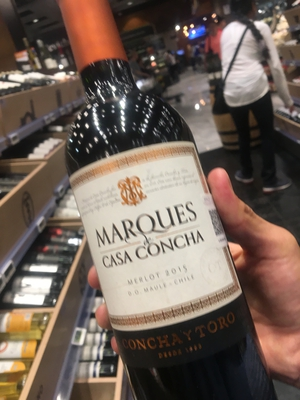marques de casa concha merlot: (55, 9, 265, 394)
